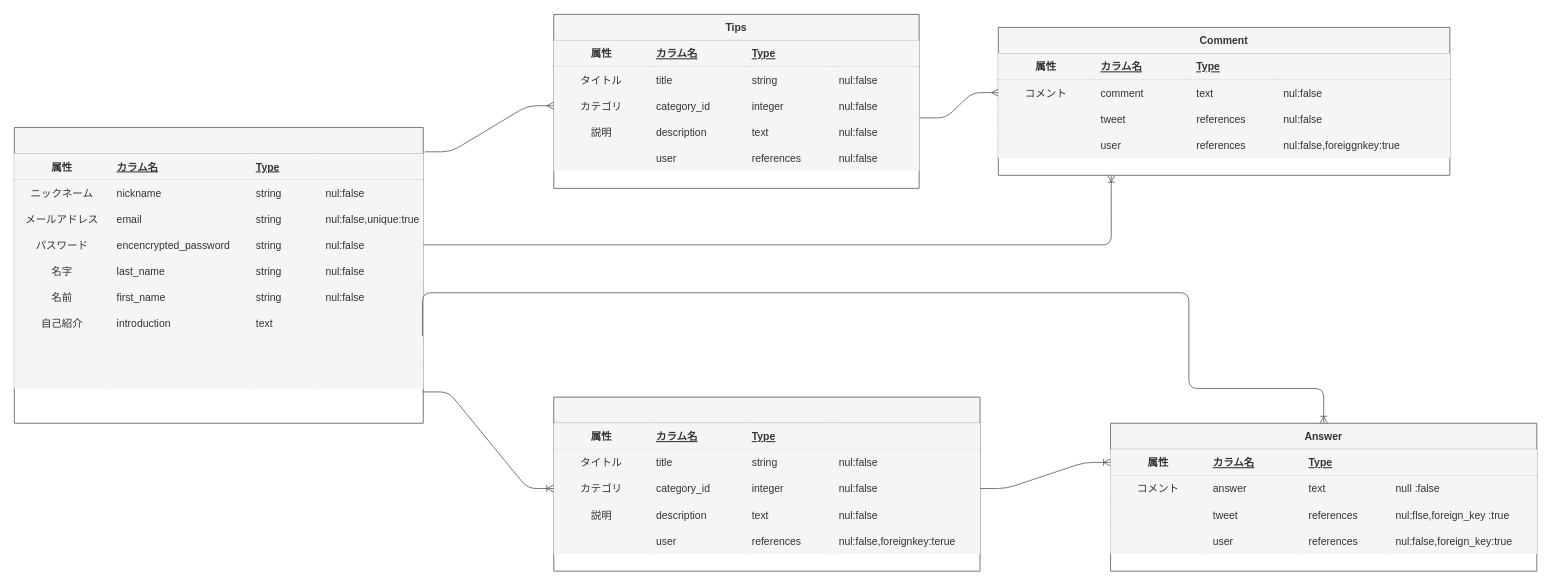
This 1551x586 diagram has some shape labels left out. The box of each missing label's shape, as (x1, y1, x2, y2) in pixels:
Question: (553, 396, 980, 571)
Users: (13, 127, 423, 423)
